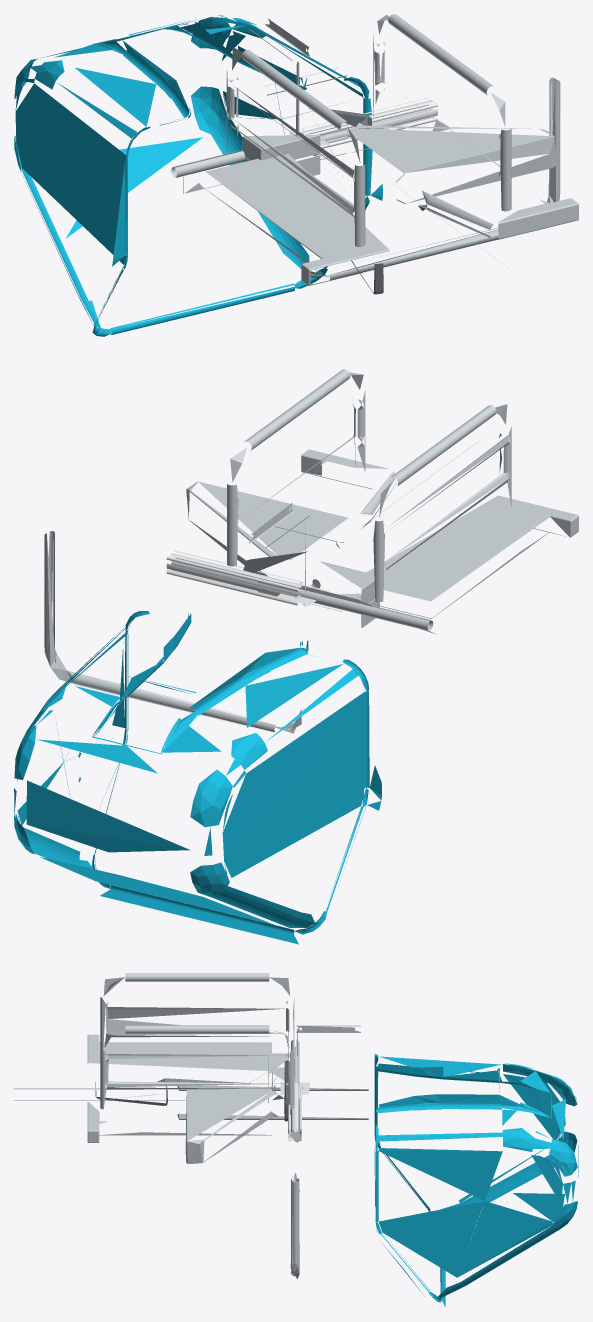
File: ric_station.glb
3 renders of one model, top to bottom at view 1: azimuth 30°, elevation 25°; view 2: azimuth 150°, elevation 25°; view 3: azimuth 270°, elevation 25°, orthographic. The views are drawn at different scales.
Visible parts, largest first — view 1: RIC_galvanized, RIC_blue_tub, RIC_stainless, RIC_dark_trim; view 2: RIC_blue_tub, RIC_galvanized, RIC_stainless; view 3: RIC_blue_tub, RIC_galvanized, RIC_stainless, RIC_dark_trim.
Part boxes in pixels (x1,y1,x2,y2): RIC_galvanized: (171, 14, 578, 285); RIC_blue_tub: (14, 15, 382, 336); RIC_stainless: (287, 97, 437, 148); RIC_dark_trim: (265, 68, 427, 294); RIC_blue_tub: (14, 611, 381, 944); RIC_galvanized: (44, 369, 578, 733); RIC_stainless: (166, 550, 329, 607); RIC_blue_tub: (374, 1053, 578, 1307); RIC_galvanized: (14, 973, 368, 1278); RIC_stainless: (280, 1082, 309, 1142); RIC_dark_trim: (95, 1032, 297, 1121).
Bounding box in the file's own units: 1.67 × 1.51 × 2.84.
